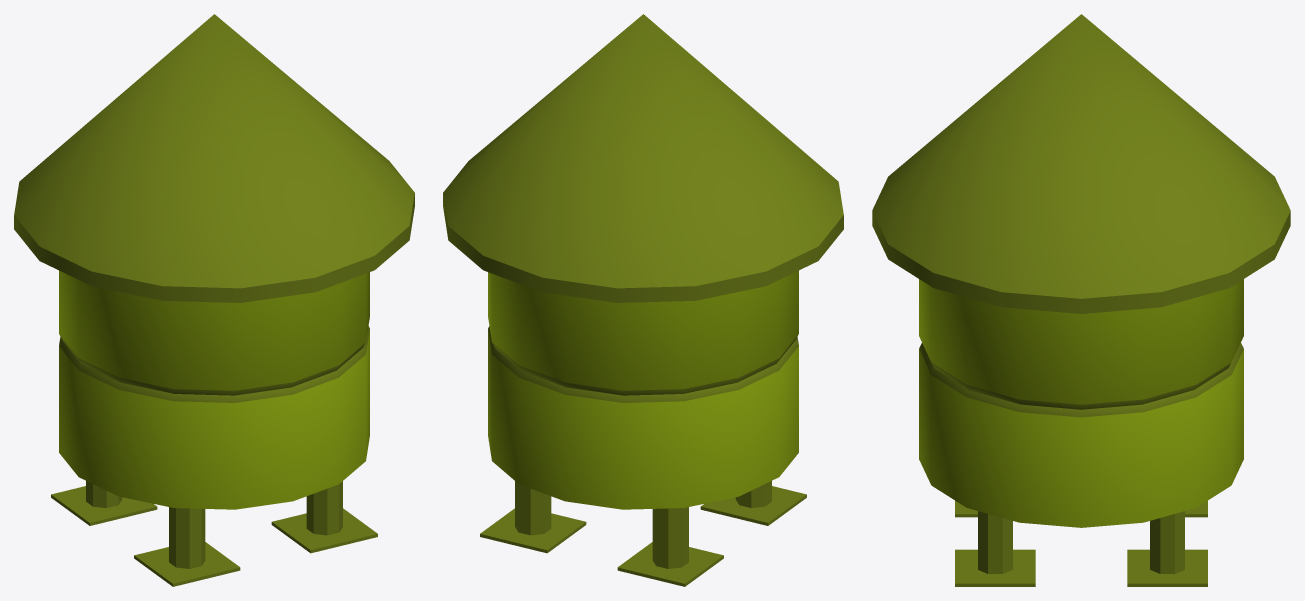
File: Prop_RoofWaterStore_02.fbx
3 renders of one model, left to right at view 1: azimuth 30°, elevation 25°; view 2: azimuth 150°, elevation 25°; view 3: azimuth 270°, elevation 25°, orthographic. The views are drawn at different scales.
Visible parts, largest first — view 1: Prop_RoofWaterStore_02; view 2: Prop_RoofWaterStore_02; view 3: Prop_RoofWaterStore_02.
Part boxes in pixels (box(x1,y1,x2,y2)): Prop_RoofWaterStore_02: box(14, 14, 414, 586); Prop_RoofWaterStore_02: box(443, 14, 843, 586); Prop_RoofWaterStore_02: box(872, 14, 1290, 586).
Bounding box in the file's own units: 208 × 286 × 208.
